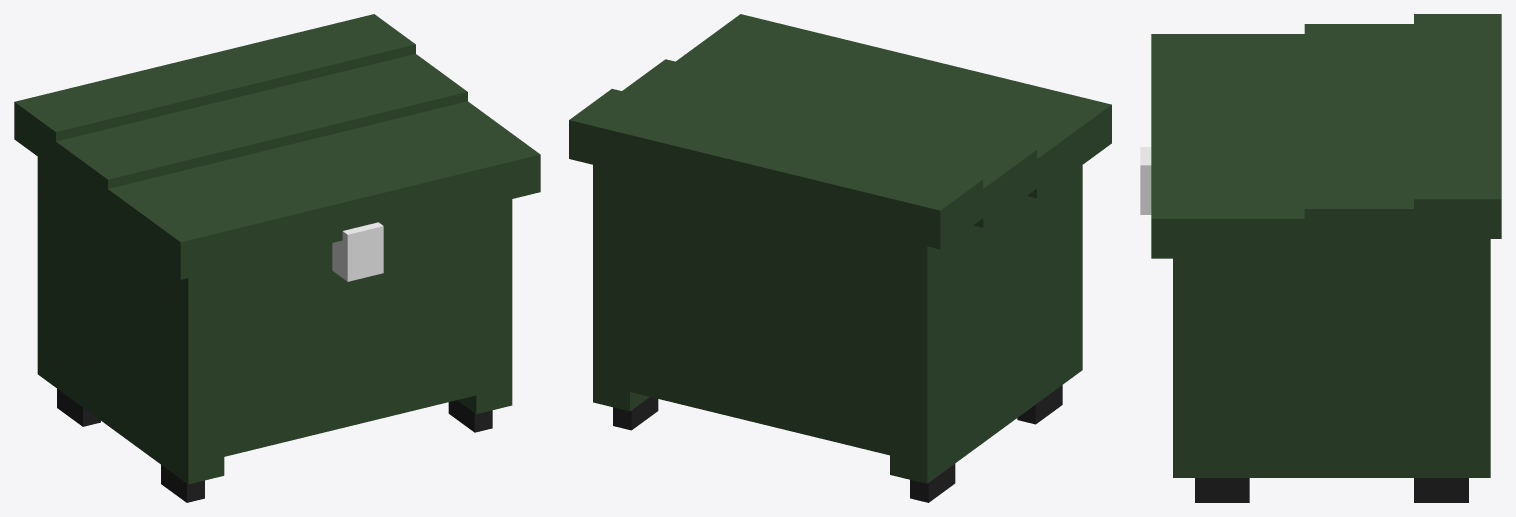
Rendered from gomibox.obj.
3 renders of one model, left to right at view 1: azimuth 30°, elevation 25°; view 2: azimuth 150°, elevation 25°; view 3: azimuth 270°, elevation 25°, orthographic. The views are drawn at different scales.
Bounding box in the file's own units: 4 × 3.2 × 3.3.
Materials: 1 (1 with a texture image).
